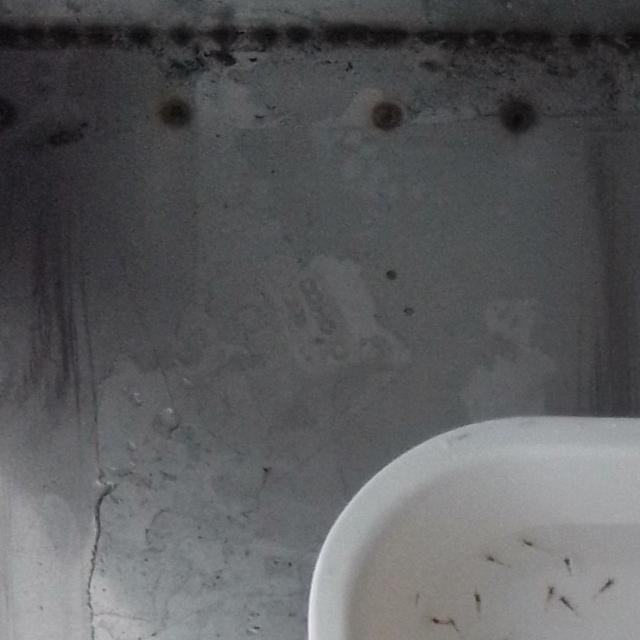shrimp-seed: (520, 538, 536, 550), (428, 615, 442, 627), (483, 554, 498, 564), (472, 592, 484, 603), (444, 617, 456, 627), (546, 586, 558, 596), (556, 594, 568, 604), (604, 578, 616, 588), (562, 556, 572, 568)
